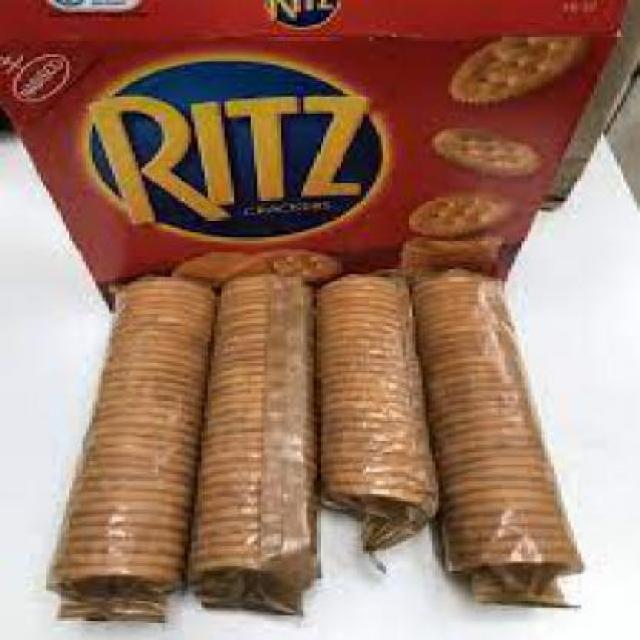Ritz cracker: (3, 2, 628, 304), (33, 272, 587, 608)
